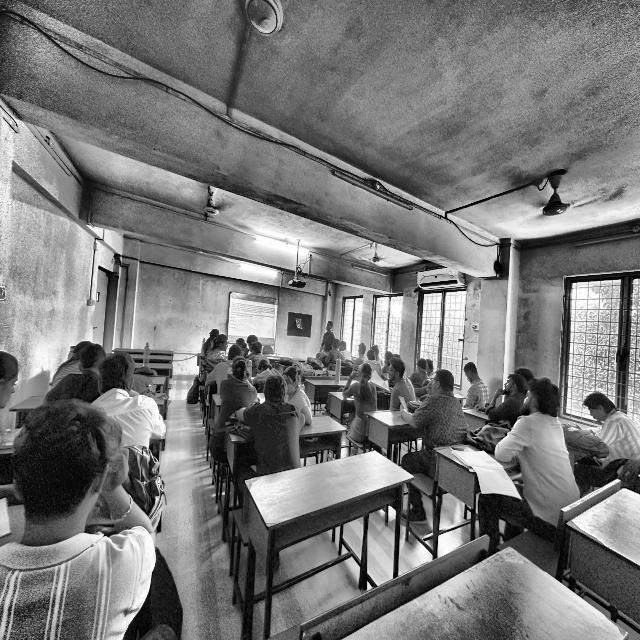Focus: (206, 317, 268, 465), (502, 362, 580, 462), (341, 343, 384, 451), (424, 368, 484, 442), (319, 311, 347, 351)
Not Focus: (5, 395, 136, 580), (2, 327, 162, 419), (579, 360, 640, 438), (277, 357, 308, 411), (452, 348, 487, 395), (384, 360, 418, 406)
